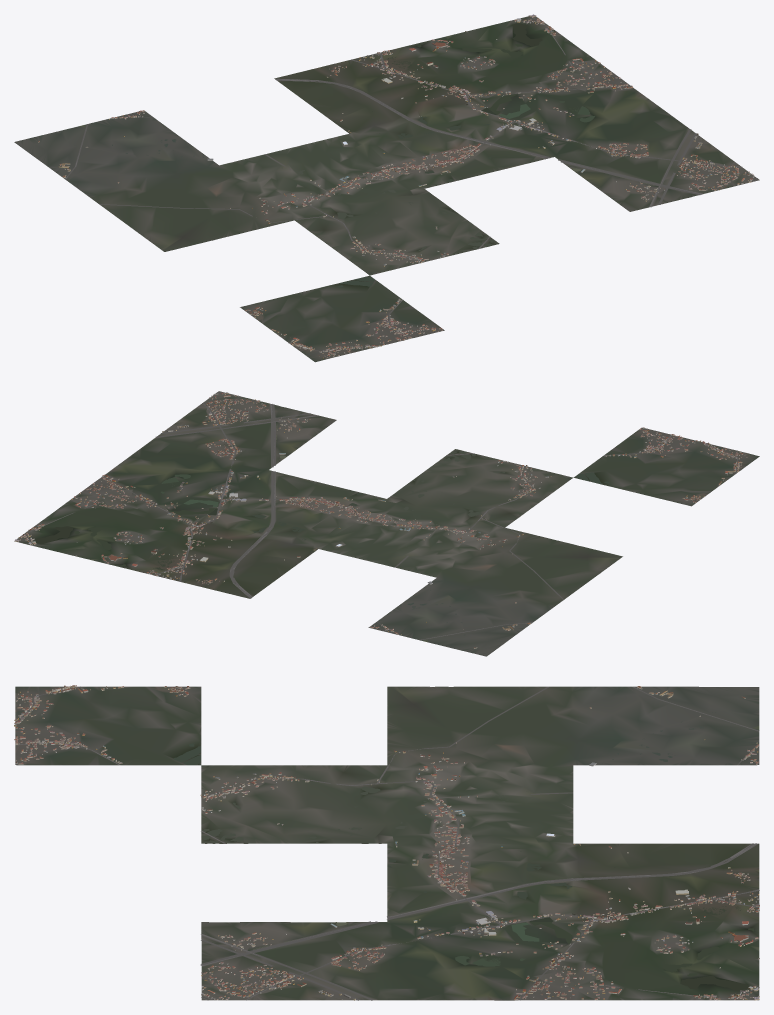
The picture shows the model from 3 angles, top to bottom: view 1: azimuth 30°, elevation 25°; view 2: azimuth 150°, elevation 25°; view 3: azimuth 270°, elevation 25°; orthographic projection. The views are drawn at different scales.
Visible parts, largest first — view 1: ground, buildings, roads, water; view 2: ground, buildings, roads, water; view 3: ground, buildings, roads, water.
Part boxes in pixels (x1,y1,x2,y2): ground: (14,16,759,362); buildings: (38,14,754,358); roads: (65,20,757,352); water: (103,23,654,287); ground: (14,391,759,656); buildings: (14,392,747,648); roads: (25,392,737,640); water: (35,424,609,635); ground: (15,686,759,1000); buildings: (14,685,759,1000); roads: (15,686,759,1000); water: (173,712,753,991).
Size of the model in its own units: 5607 by 31.23 by 5623.
